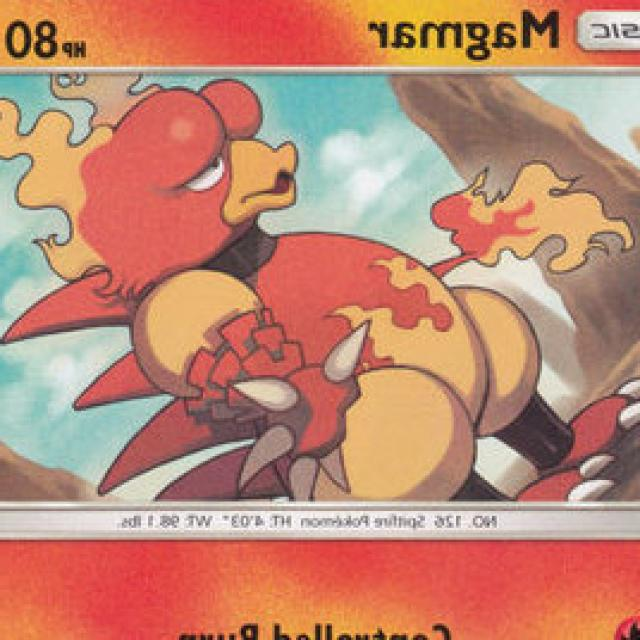Magmar: (21, 95, 569, 505)
